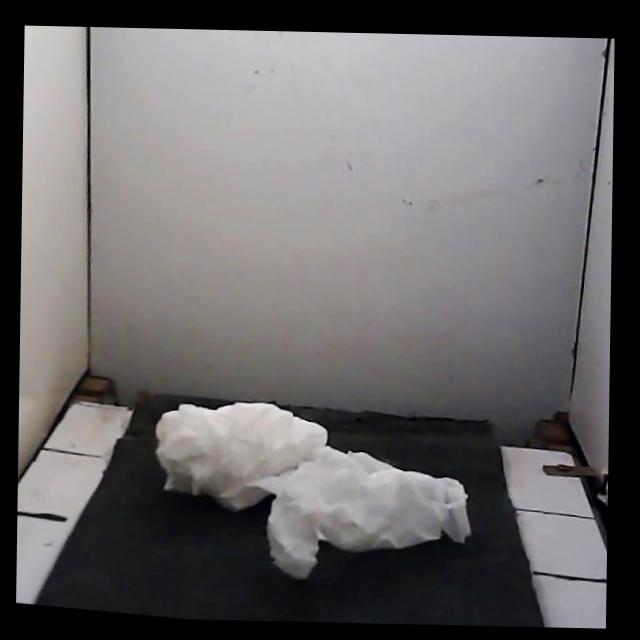papel: (156, 402, 470, 577)
